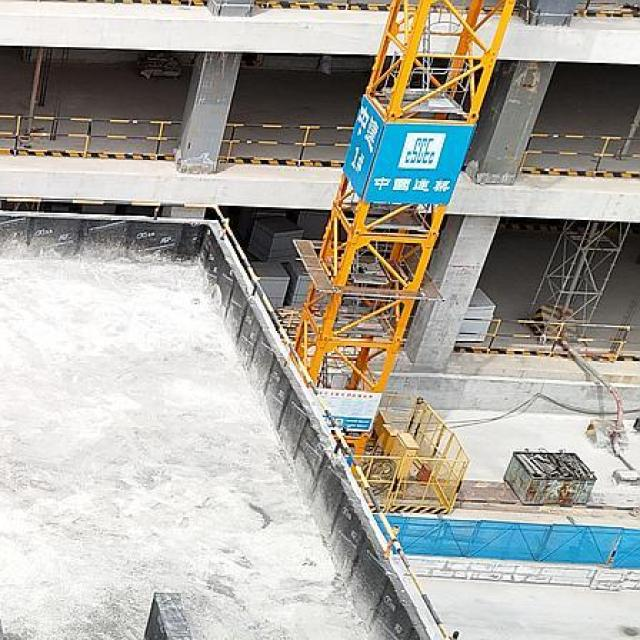edge_guardrail: (0, 195, 460, 640), (457, 318, 630, 363), (0, 114, 183, 155), (220, 122, 354, 161), (524, 134, 640, 174)
